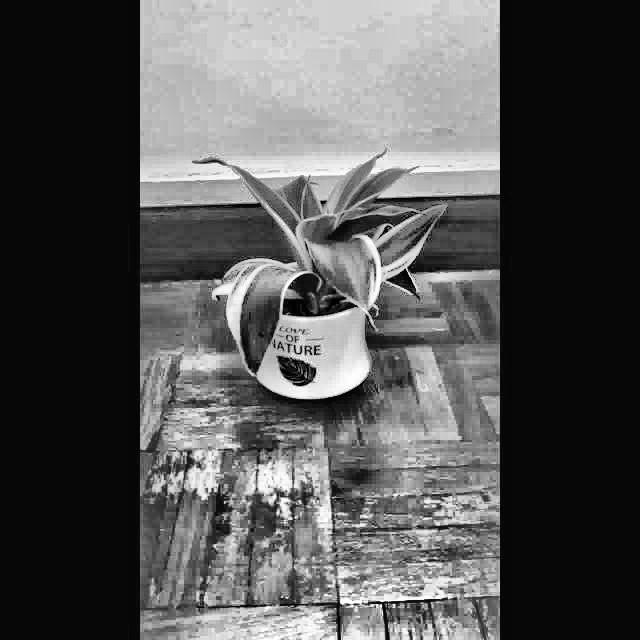plants: (184, 136, 453, 414)
